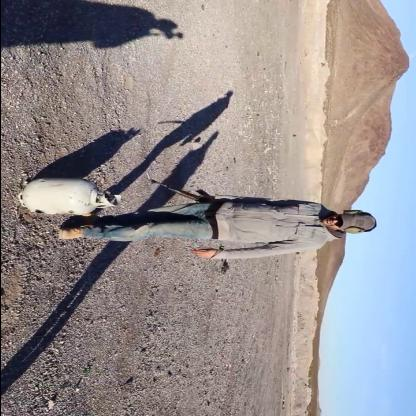long weapon: (144, 176, 218, 206)
